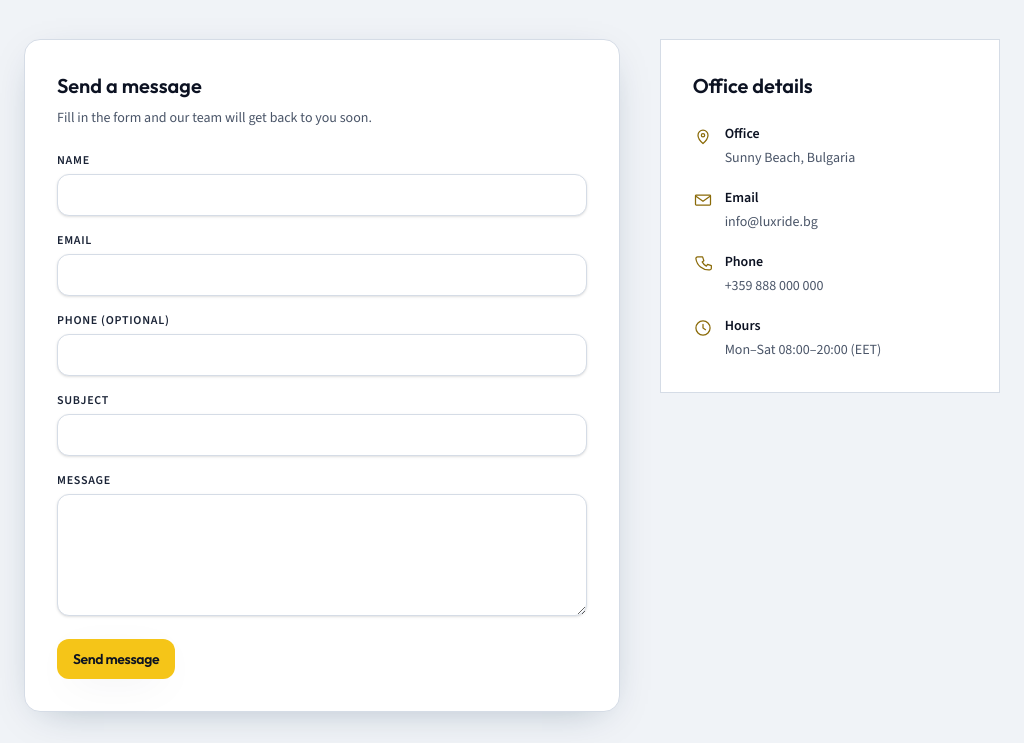
Test case: ContactPage form › shows validation errors and does not submit when fields are empty
(page scrolled)
Click the button "Send message" at (116, 658), box [57,638,175,678]
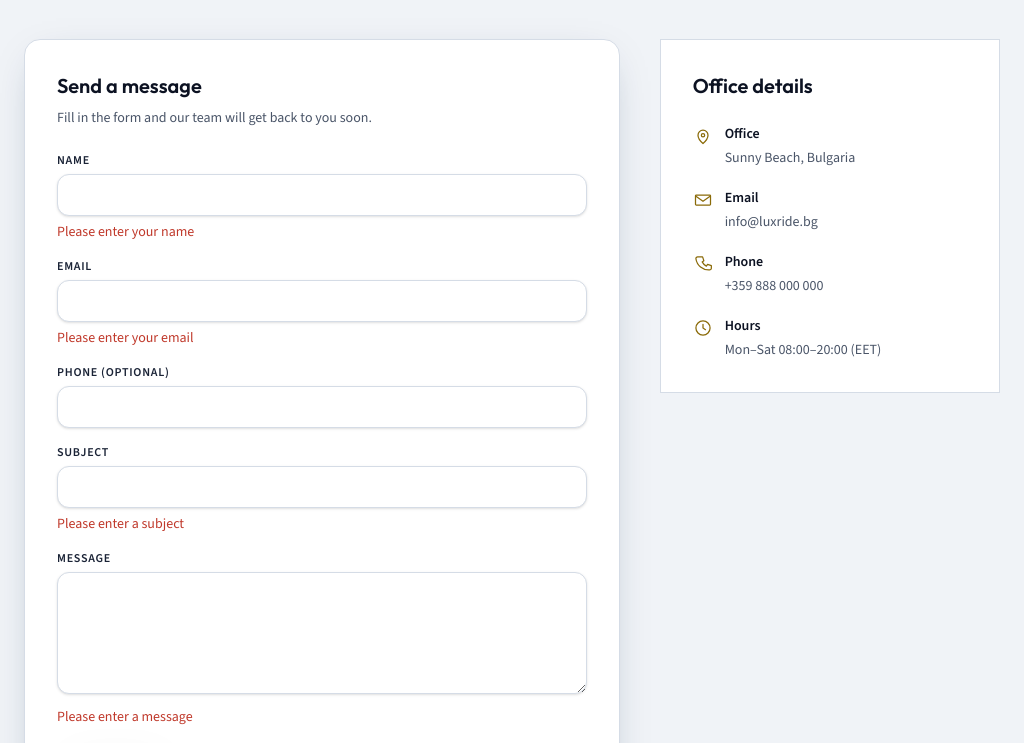
Check: the text "Please enter your name" is shown, box [57,222,194,240]
Check: the text "Please enter your email" is shown, box [57,328,194,346]
Check: the text "Please enter a subject" is shown, box [57,514,184,532]
